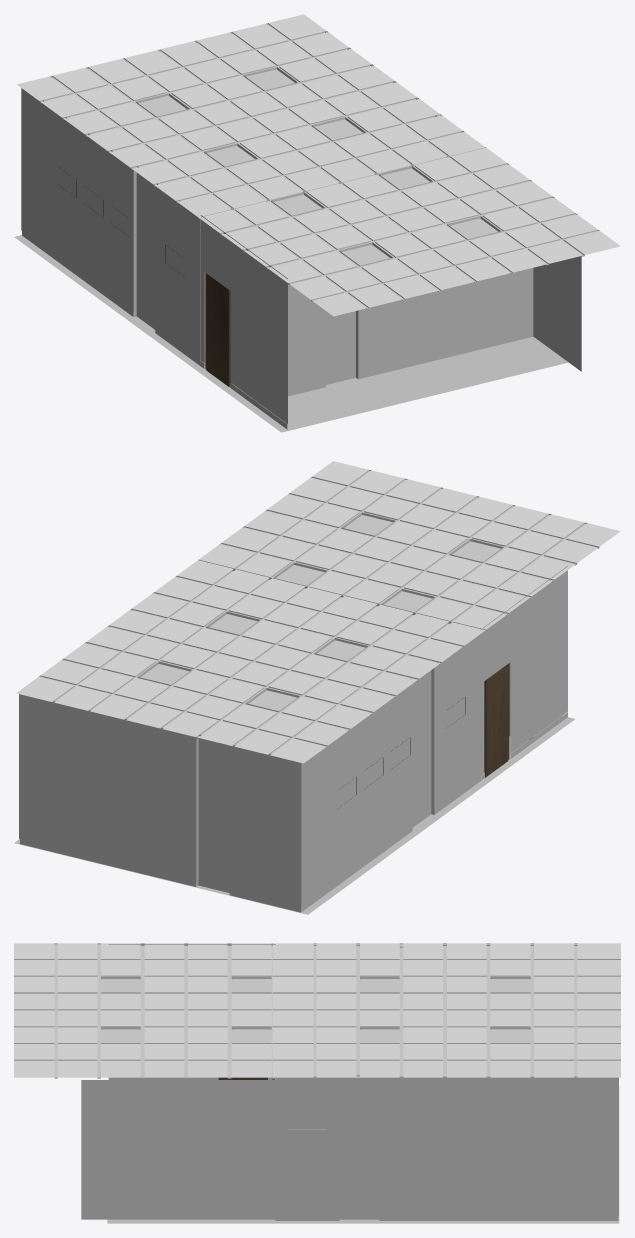
The model's file is Palestra.fbx.
3 renders of one model, top to bottom at view 1: azimuth 30°, elevation 25°; view 2: azimuth 150°, elevation 25°; view 3: azimuth 270°, elevation 25°, orthographic. The views are drawn at different scales.
Visible parts, largest first — view 1: Soffitto, Stanza; view 2: Soffitto, Stanza; view 3: Soffitto, Stanza.
Part boxes in pixels (x1,y1,x2,y2): Soffitto: (17,14,620,316); Stanza: (14,24,581,432); Soffitto: (16,461,620,763); Stanza: (14,566,574,914); Soffitto: (14,943,620,1078); Stanza: (81,944,619,1223).
Bounding box in the file's own units: 630 × 314 × 1179.
